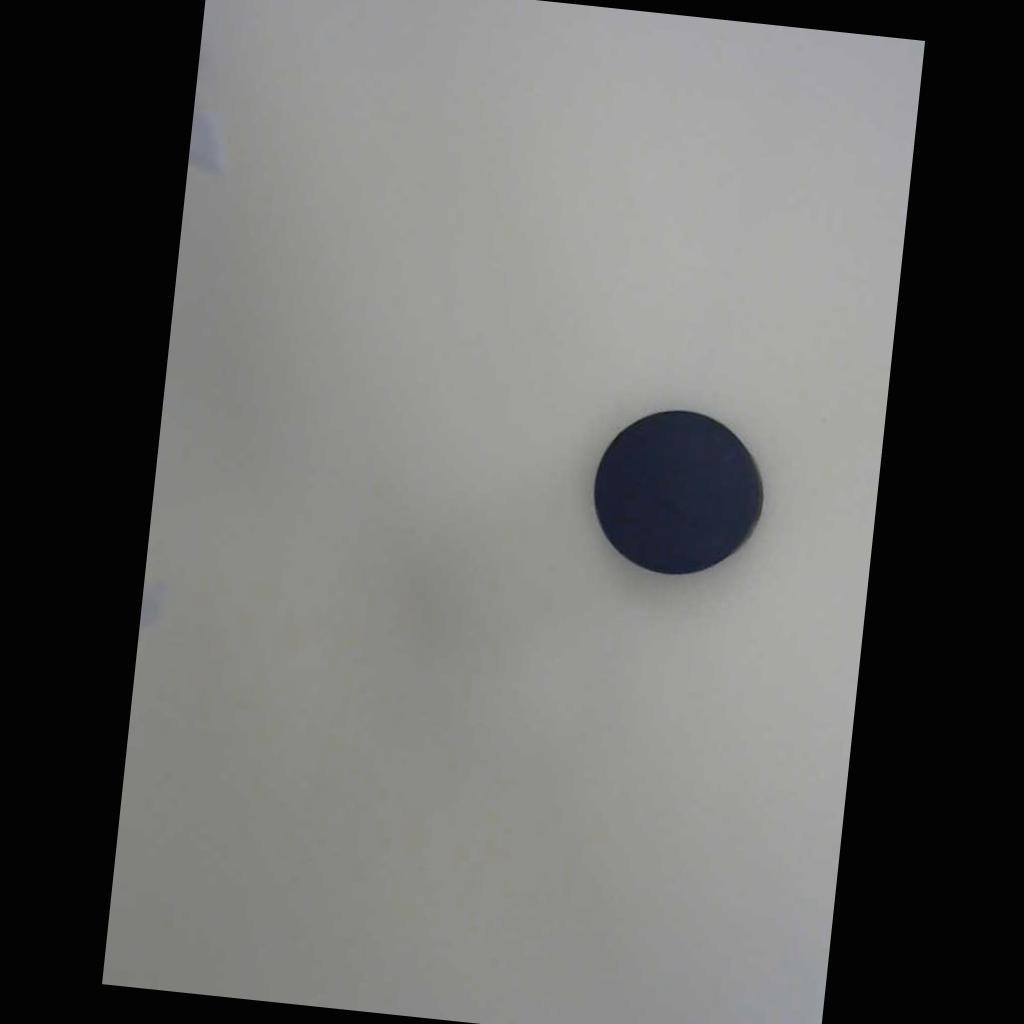circle: (569, 384, 785, 609)
